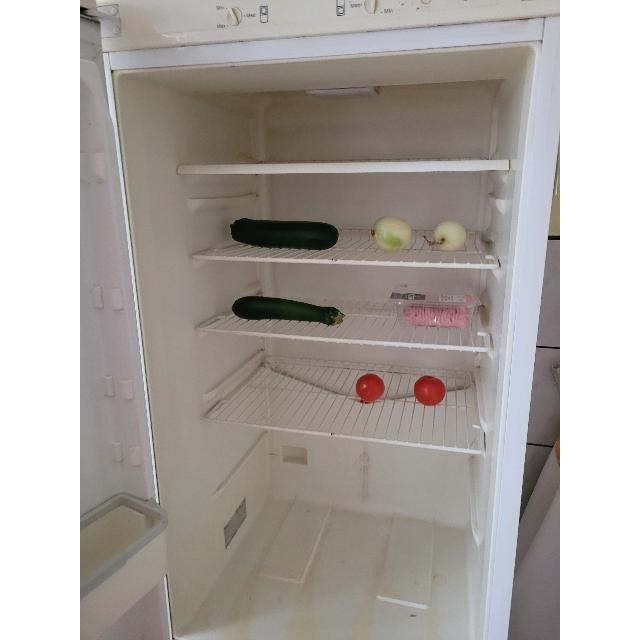meat: (404, 306, 468, 328)
onion: (371, 215, 413, 252), (432, 220, 468, 252)
tomato: (413, 375, 447, 407), (354, 372, 386, 403)
zucchini: (230, 217, 338, 249), (233, 295, 344, 325)
